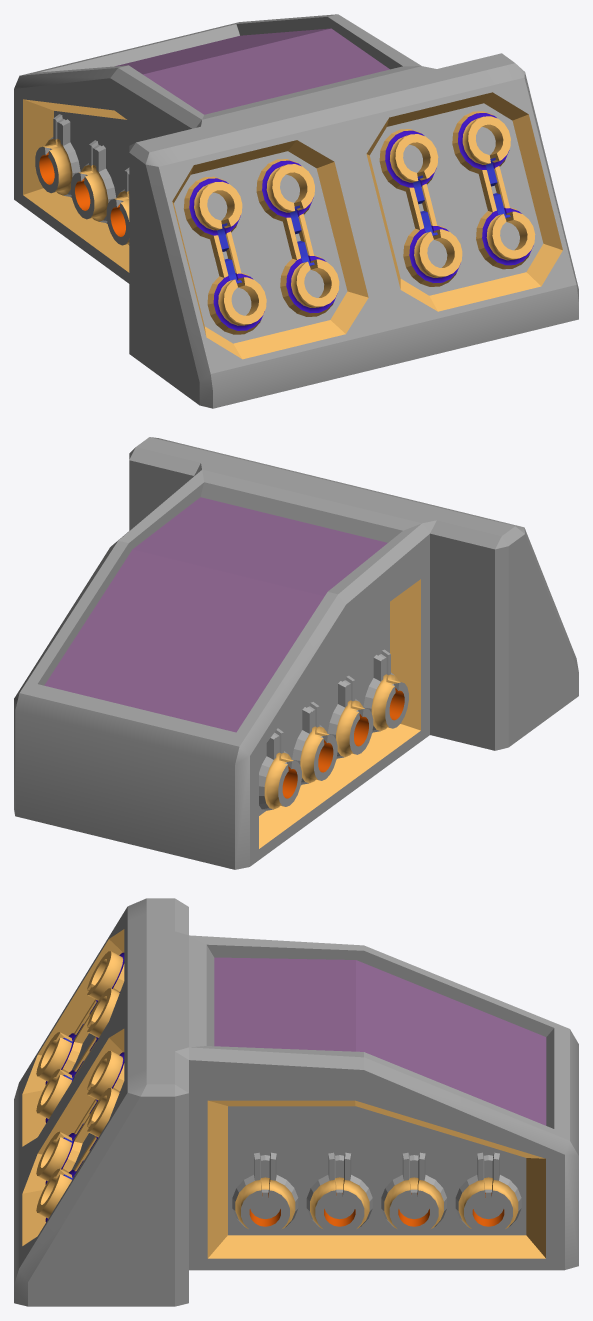
File: splitter_low.fbx
The picture shows the model from 3 angles, top to bottom: view 1: azimuth 30°, elevation 25°; view 2: azimuth 150°, elevation 25°; view 3: azimuth 270°, elevation 25°; orthographic projection. The views are drawn at different scales.
Parts seen in each view (by area): view 1: Catch001; view 2: Catch001; view 3: Catch001.
Boxes of the visible parts, <box> form: Catch001: <box>14,14,578,408</box>; Catch001: <box>14,437,578,869</box>; Catch001: <box>14,898,578,1306</box>.
Size of the model in its own units: 209 by 110 by 258.
